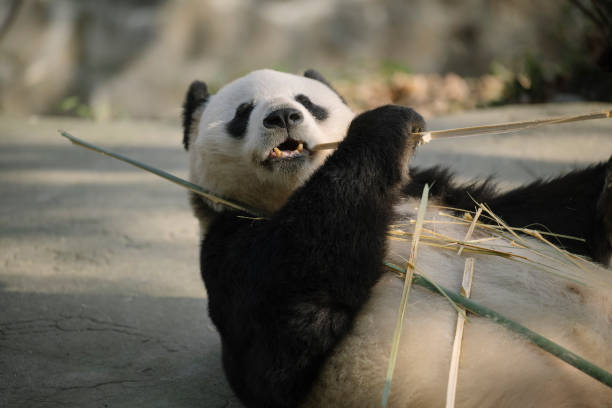panda: (160, 57, 400, 262)
